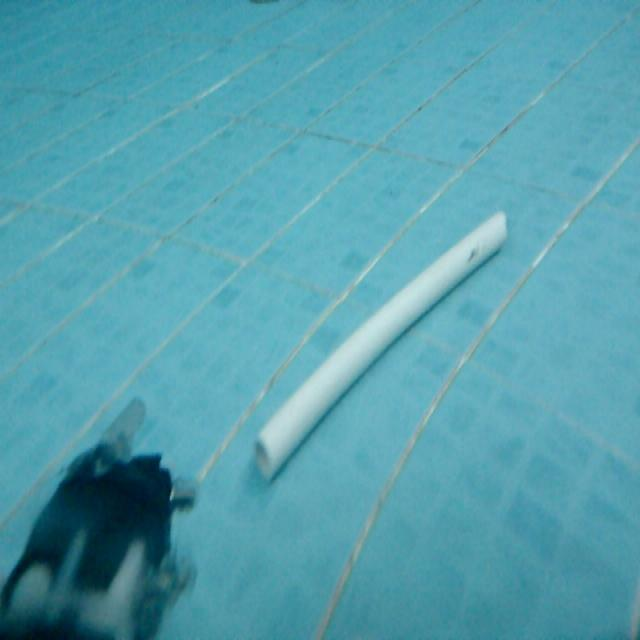Cube: (249, 204, 510, 483)
